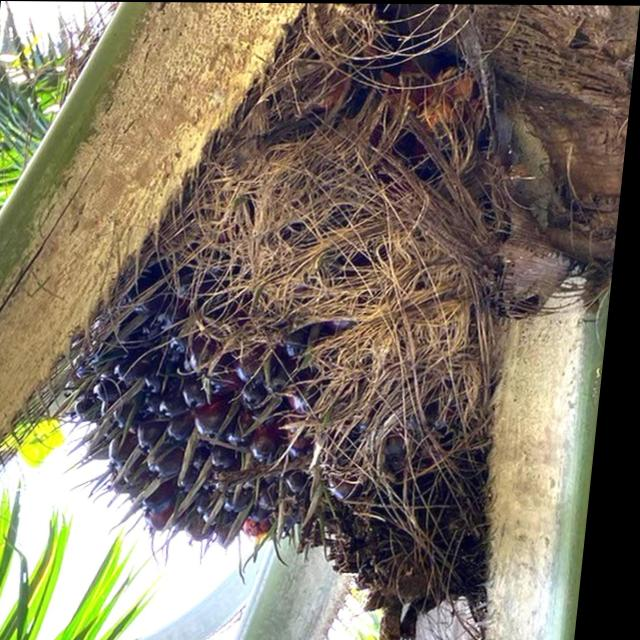ripe: (29, 118, 461, 583)
